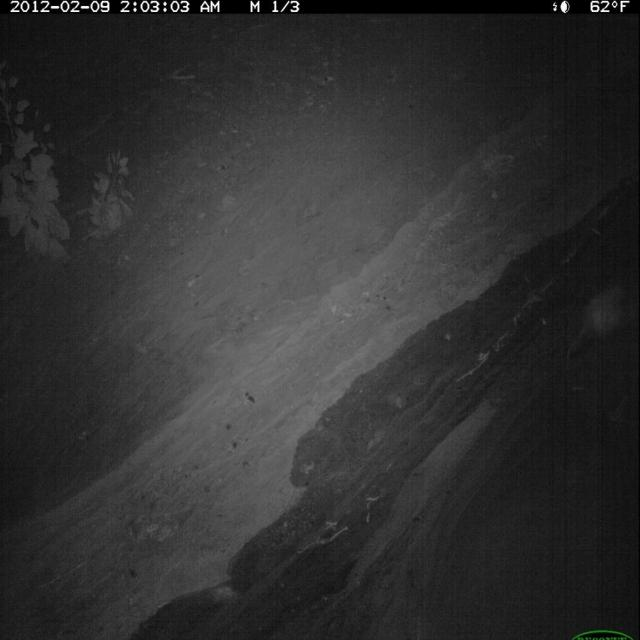opossum: (556, 271, 637, 369)
